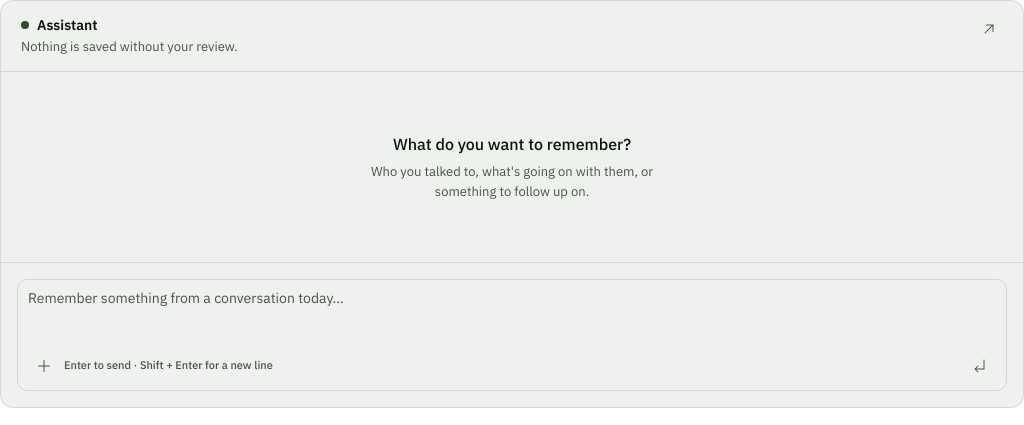
Test case: never overwrites something newer the user typed while the turn was failing
The image size is (1024, 425).
Step 1. Type "Mara adopted a cat" into the text box → (512, 312), box [18,280,1006,344]
Then press Enter
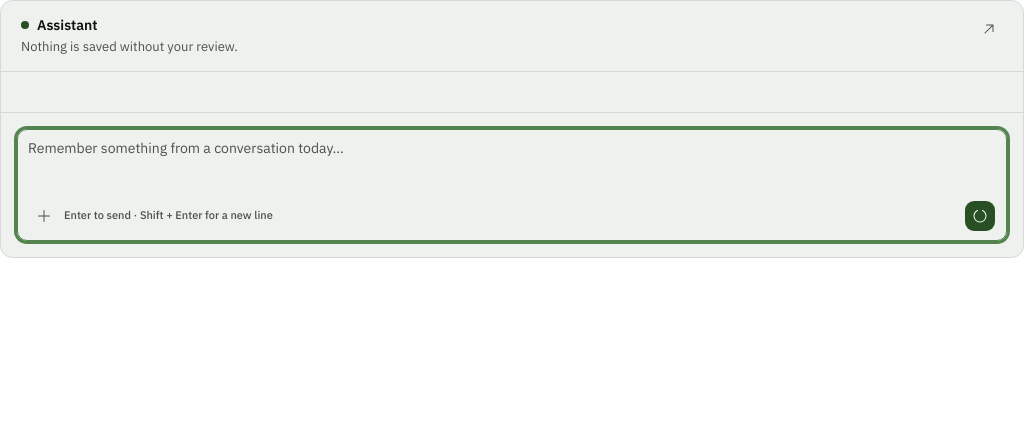
Step 2. Type "Actually it was two cats" into the text box → (512, 162), box [18,130,1006,194]
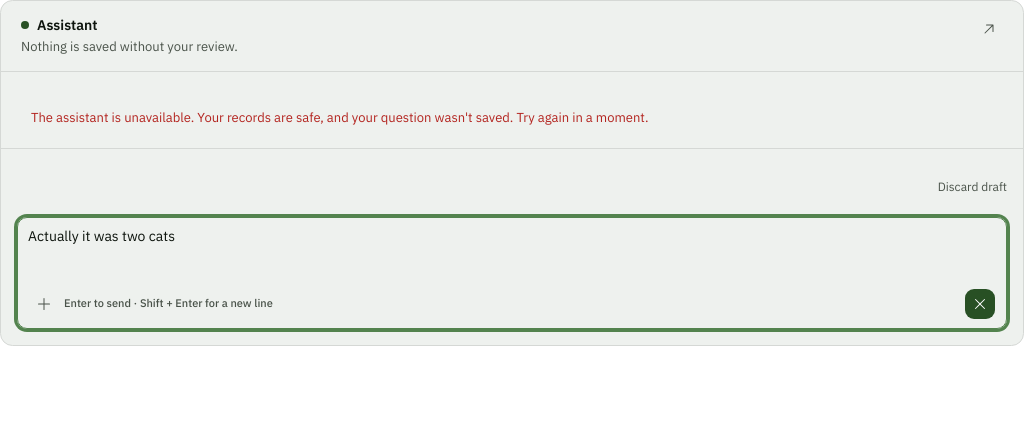
Expected: the message is shown, [31,109,648,126]
